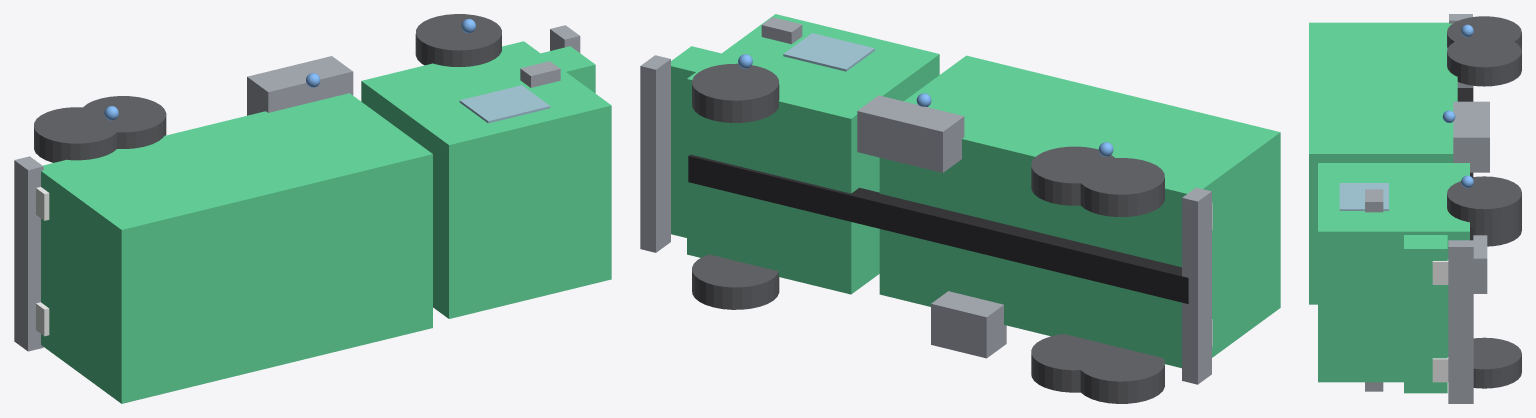
The model's file is truck_inspection.glb.
3 views of the same model, side by side, from view 1: azimuth 30°, elevation 25°; view 2: azimuth 150°, elevation 25°; view 3: azimuth 270°, elevation 25° (orthographic). The views are drawn at different scales.
Visible parts, largest first — view 1: EXT_cargo_body, EXT_cab, EXT_rear_bumper, EXT_fuel_tank, EXT_wheel_front_left, EXT_wheel_rear2_left, EXT_wheel_rear_left, EXT_left_window, EXT_bonnet, EXT_mirror_left, EXT_front_bumper; view 2: EXT_cargo_body, EXT_cab, EXT_chassis, EXT_fuel_tank, EXT_front_bumper, EXT_rear_bumper, EXT_wheel_front_left, EXT_wheel_rear2_left, EXT_battery_box, EXT_wheel_front_right, EXT_wheel_rear2_right, EXT_wheel_rear_left (+4 smaller); view 3: EXT_cab, EXT_cargo_body, EXT_bonnet, EXT_front_bumper, EXT_wheel_rear_left, EXT_wheel_front_left, EXT_fuel_tank, EXT_wheel_front_right, EXT_wheel_rear2_left, EXT_left_window, EXT_battery_box, EXT_wheel_rear_right (+5 smaller).
Boxes of the visible parts, left/top/right/bottom form: EXT_cargo_body: left=41, top=93, right=432, bottom=403; EXT_cab: left=361, top=41, right=611, bottom=318; EXT_rear_bumper: left=14, top=156, right=43, bottom=351; EXT_fuel_tank: left=247, top=56, right=353, bottom=115; EXT_wheel_front_left: left=415, top=14, right=501, bottom=66; EXT_wheel_rear2_left: left=34, top=107, right=119, bottom=162; EXT_wheel_rear_left: left=80, top=96, right=166, bottom=148; EXT_left_window: left=459, top=85, right=550, bottom=123; EXT_bonnet: left=541, top=46, right=595, bottom=93; EXT_mirror_left: left=520, top=61, right=560, bottom=87; EXT_front_bumper: left=550, top=25, right=580, bottom=52; EXT_cargo_body: left=879, top=55, right=1280, bottom=368; EXT_cab: left=687, top=14, right=939, bottom=294; EXT_chassis: left=688, top=154, right=1188, bottom=303; EXT_fuel_tank: left=857, top=95, right=964, bottom=172; EXT_front_bumper: left=640, top=55, right=670, bottom=252; EXT_rear_bumper: left=1182, top=187, right=1211, bottom=384; EXT_wheel_front_left: left=692, top=63, right=779, bottom=122; EXT_wheel_rear2_left: left=1077, top=158, right=1164, bottom=216; EXT_battery_box: left=931, top=291, right=1006, bottom=358; EXT_wheel_front_right: left=692, top=254, right=779, bottom=309; EXT_wheel_rear2_right: left=1080, top=347, right=1164, bottom=403; EXT_wheel_rear_left: left=1031, top=146, right=1118, bottom=205; EXT_cab: left=1318, top=163, right=1469, bottom=382; EXT_cargo_body: left=1309, top=22, right=1457, bottom=304; EXT_bonnet: left=1404, top=235, right=1447, bottom=393; EXT_front_bumper: left=1448, top=240, right=1473, bottom=403; EXT_wheel_rear_left: left=1447, top=35, right=1521, bottom=86; EXT_wheel_front_left: left=1447, top=177, right=1521, bottom=228; EXT_fuel_tank: left=1453, top=101, right=1489, bottom=172; EXT_wheel_front_right: left=1473, top=337, right=1521, bottom=388; EXT_wheel_rear2_left: left=1447, top=16, right=1521, bottom=50; EXT_left_window: left=1339, top=183, right=1388, bottom=210; EXT_battery_box: left=1473, top=235, right=1487, bottom=293; EXT_wheel_rear_right: left=1473, top=213, right=1521, bottom=246.
Size of the model in its own units: 7.8 by 3.34 by 3.01.
